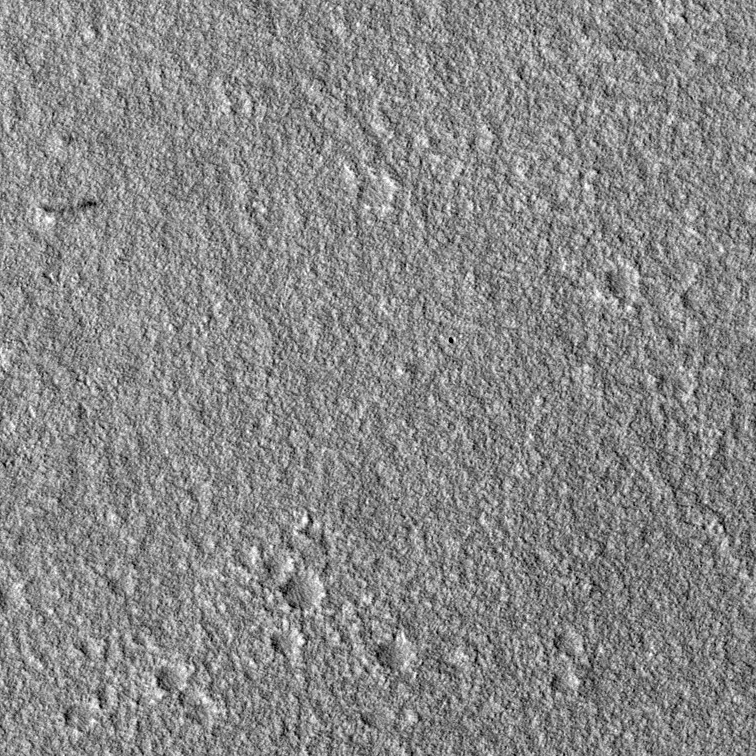dust_devil: (32, 196, 103, 231)
